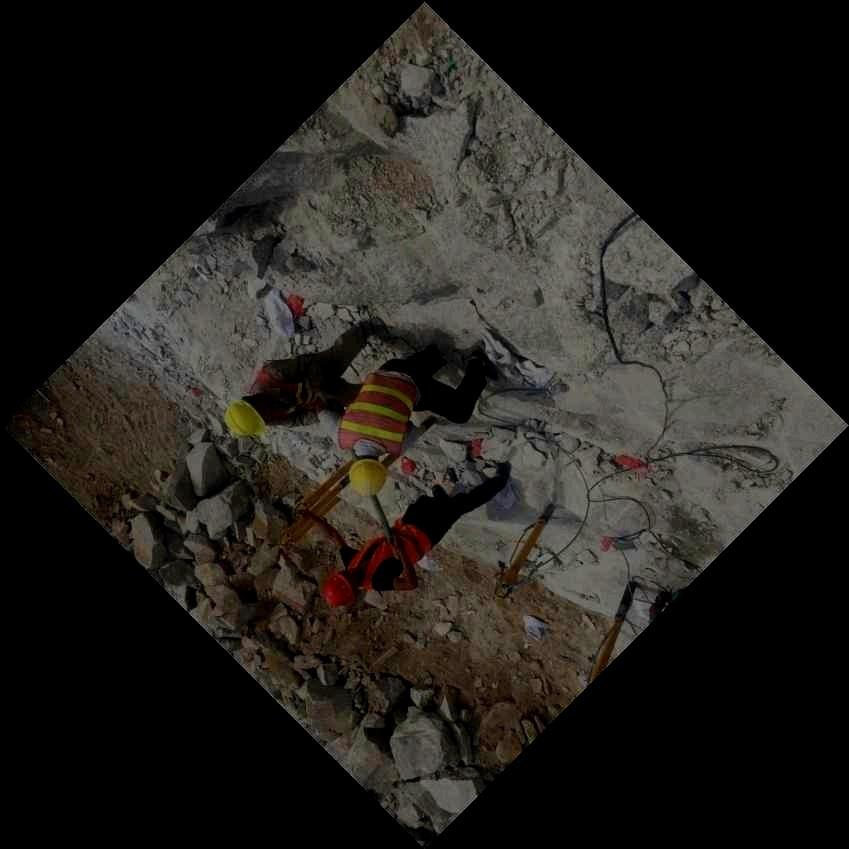helmet: (223, 390, 280, 437), (346, 454, 390, 497), (320, 566, 361, 608)
